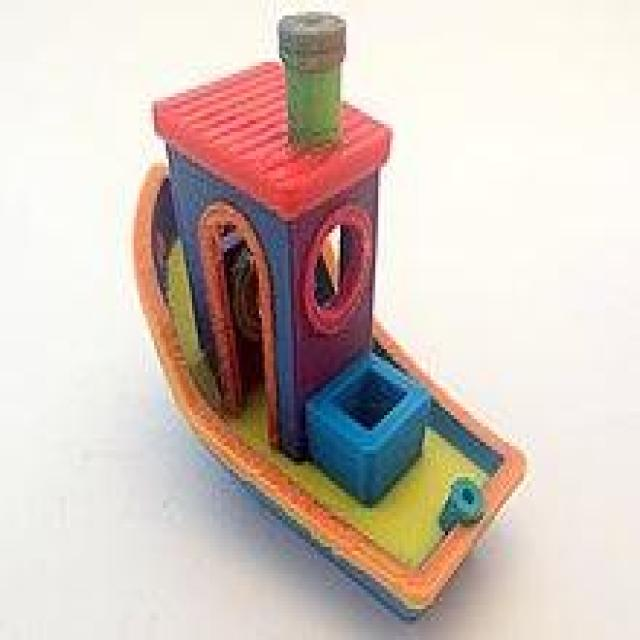Without deffect: (118, 3, 534, 636)
